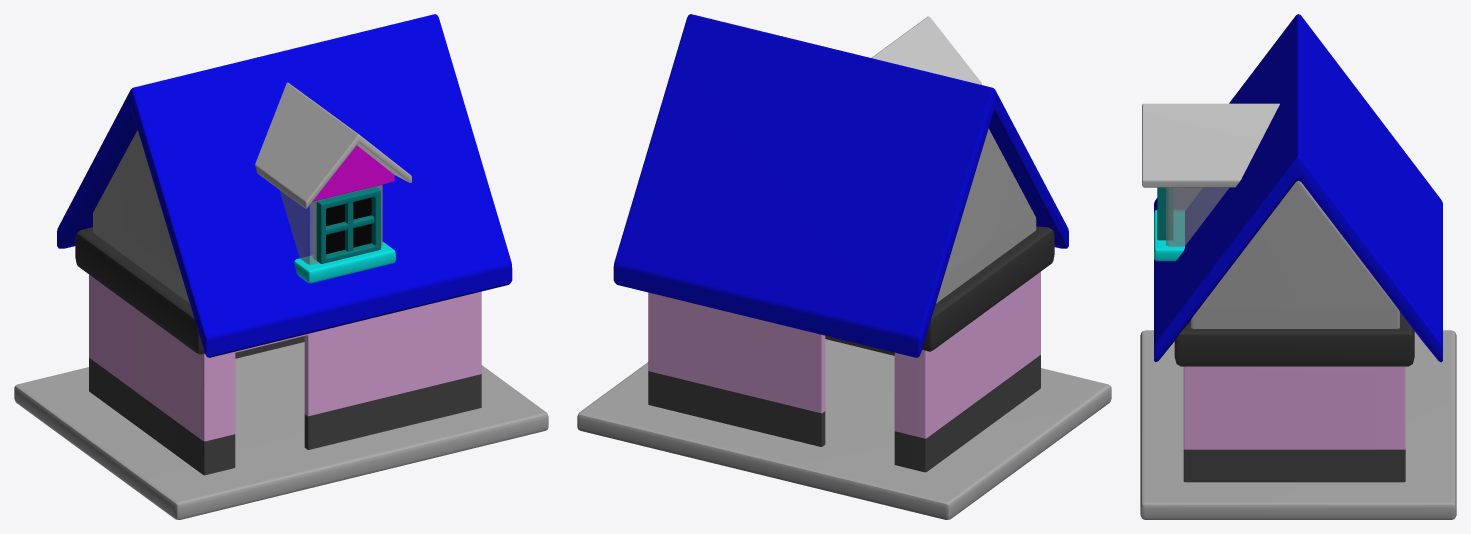
File: SM_House.fbx
3 renders of one model, left to right at view 1: azimuth 30°, elevation 25°; view 2: azimuth 150°, elevation 25°; view 3: azimuth 270°, elevation 25°, orthographic. The views are drawn at different scales.
Parts seen in each view (by area): view 1: SM_house; view 2: SM_house; view 3: SM_house.
Part boxes in pixels (bbox=[...]): SM_house: bbox=[14, 14, 548, 519]; SM_house: bbox=[577, 14, 1111, 519]; SM_house: bbox=[1140, 14, 1456, 519].
Bounding box in the file's own units: 1634 × 1526 × 1246.
